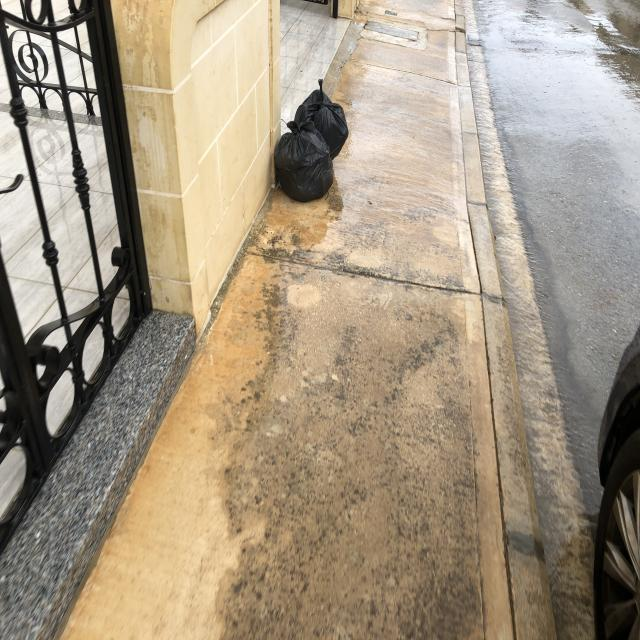Mixed Waste -Black Bag-: (272, 132, 335, 204), (294, 80, 351, 158)
